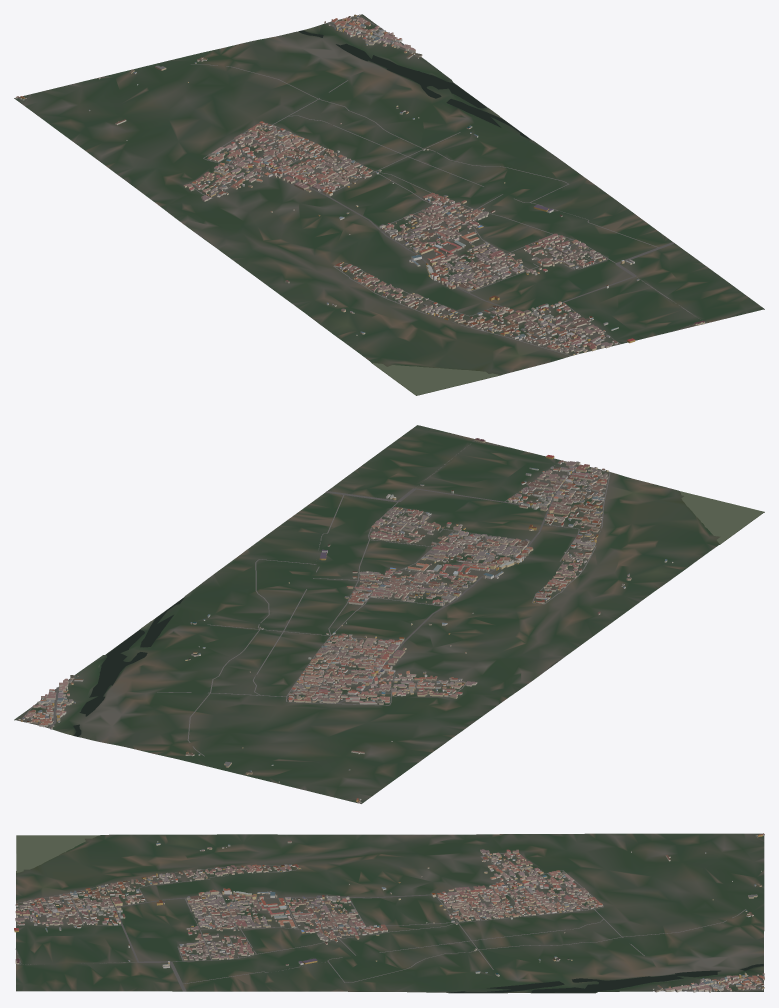
3 views of the same model, one above another, from view 1: azimuth 30°, elevation 25°; view 2: azimuth 150°, elevation 25°; view 3: azimuth 270°, elevation 25° (orthographic). The views are drawn at different scales.
Parts seen in each view (by area): view 1: ground, buildings, water, roads; view 2: ground, buildings, water, roads; view 3: ground, buildings, roads, water.
Boxes of the visible parts, <box> form: ground: <box>14,14,764,395</box>; buildings: <box>15,14,704,355</box>; water: <box>299,30,530,395</box>; roads: <box>191,15,705,355</box>; ground: <box>14,425,764,803</box>; buildings: <box>18,438,673,803</box>; water: <box>73,491,764,736</box>; roads: <box>18,440,610,756</box>; ground: <box>16,833,764,993</box>; buildings: <box>14,833,764,992</box>; roads: <box>15,853,763,991</box>; water: <box>16,835,763,992</box>.
Size of the model in its own units: 1410 by 26.45 by 2814.
